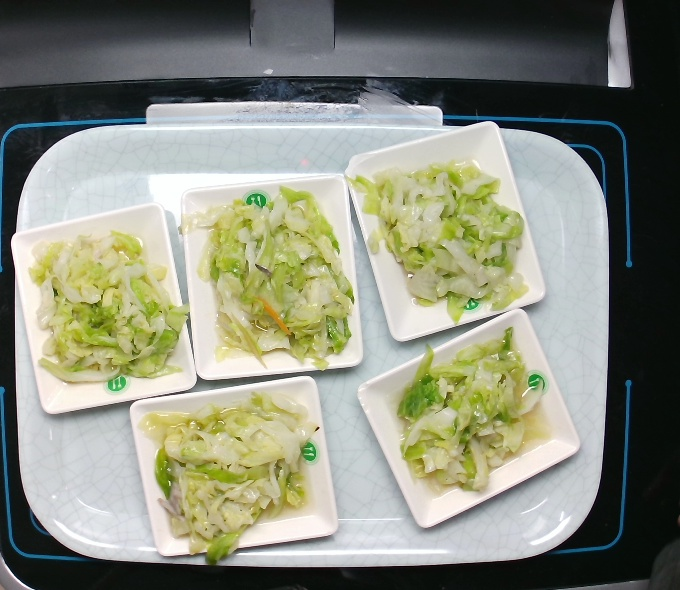wcq-JuanXinCai: (349, 149, 531, 325), (14, 210, 196, 386), (138, 385, 320, 561), (185, 186, 355, 373), (392, 326, 551, 504)
